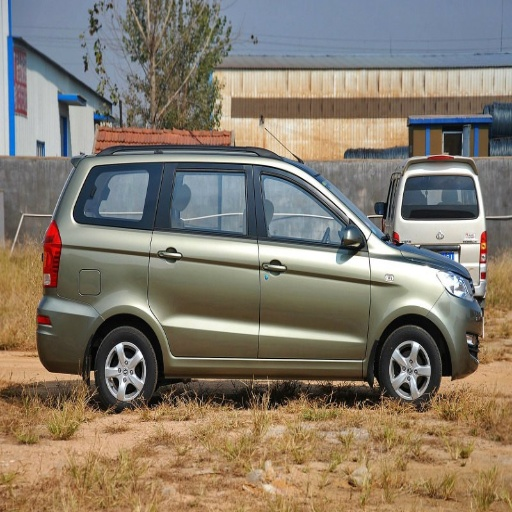back_right_door: (140, 158, 259, 375)
front_right_door: (258, 159, 371, 367)
trunk: (52, 253, 105, 358)
